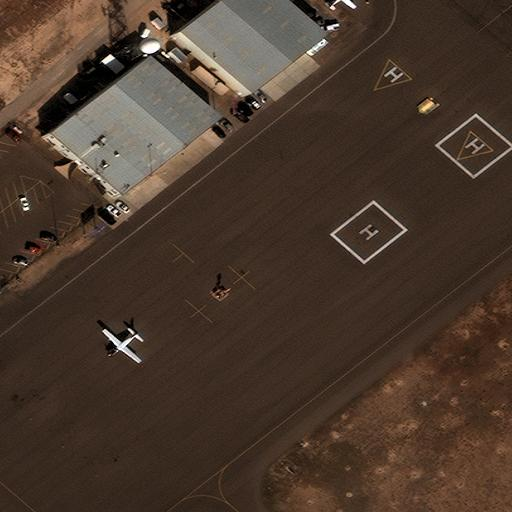Medium Civil Transport: (101, 331, 138, 364)
Small Civil Transport: (327, 0, 357, 8)
